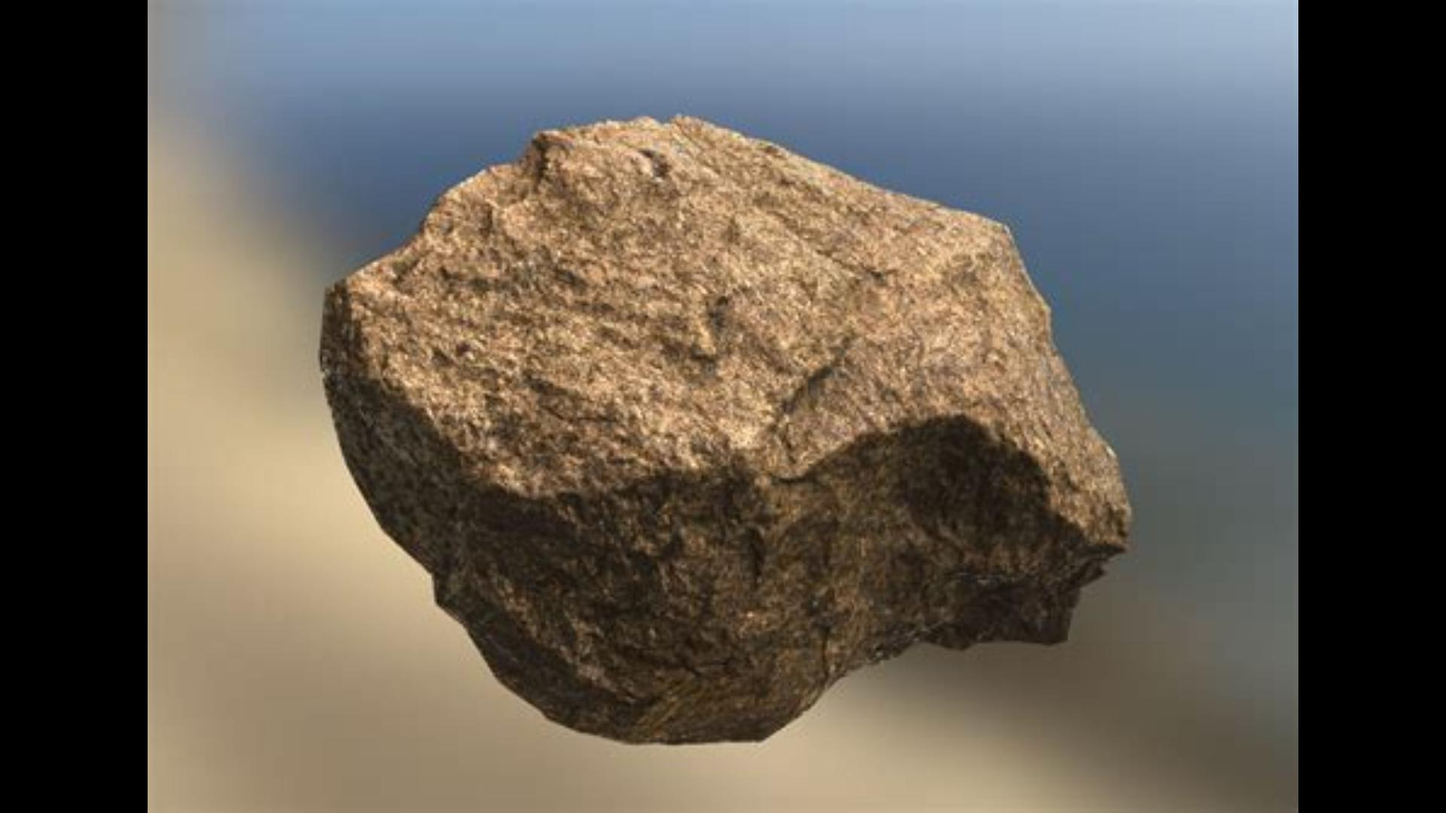rock: (322, 121, 1124, 735)
